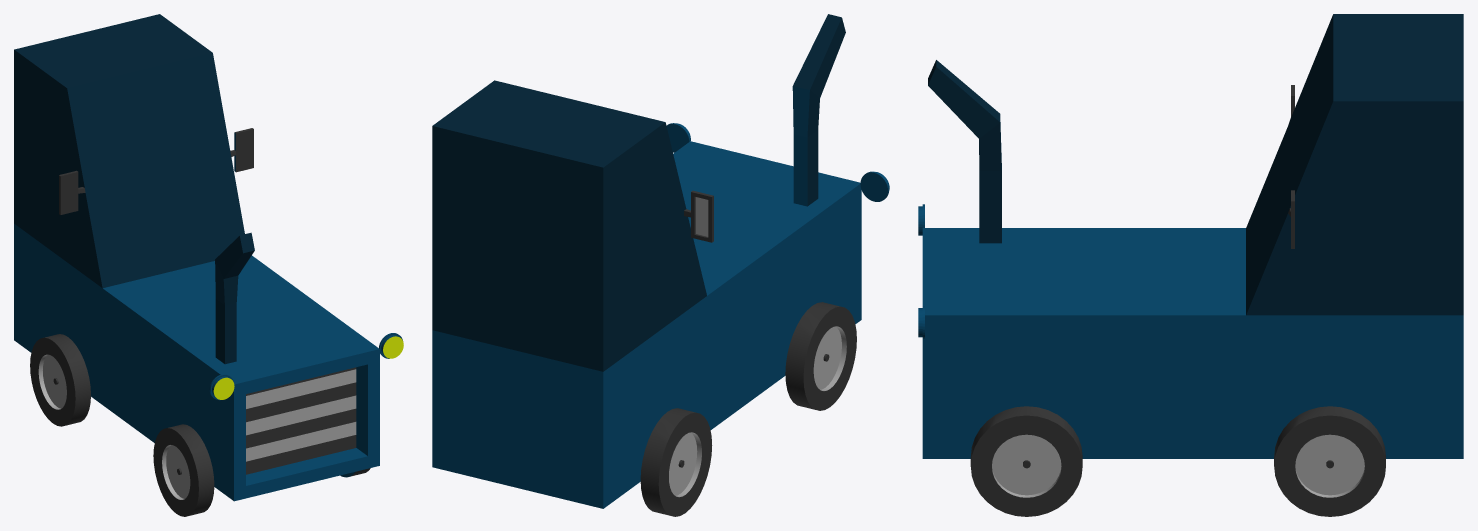
Rendered from Tractor.fbx.
3 renders of one model, left to right at view 1: azimuth 30°, elevation 25°; view 2: azimuth 150°, elevation 25°; view 3: azimuth 270°, elevation 25°, orthographic. The views are drawn at different scales.
Parts seen in each view (by area): view 1: Circle.004; view 2: Circle.004; view 3: Circle.004.
Part boxes in pixels (x1,y1,x2,y2): Circle.004: [14, 14, 403, 516]; Circle.004: [432, 14, 889, 516]; Circle.004: [918, 14, 1463, 516].
Bounding box in the file's own units: 427 × 696 × 847.
